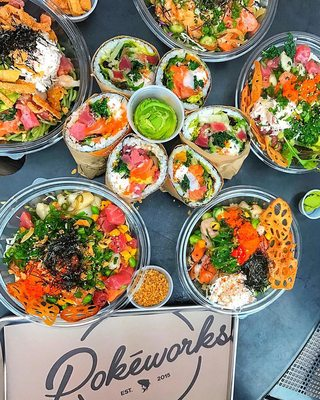sushi: (0, 177, 149, 328), (175, 186, 299, 316), (0, 1, 92, 156), (237, 32, 320, 174), (133, 0, 279, 62), (63, 92, 130, 180), (179, 105, 255, 181), (91, 35, 160, 98), (156, 48, 212, 110), (127, 86, 185, 143), (41, 0, 99, 24)
